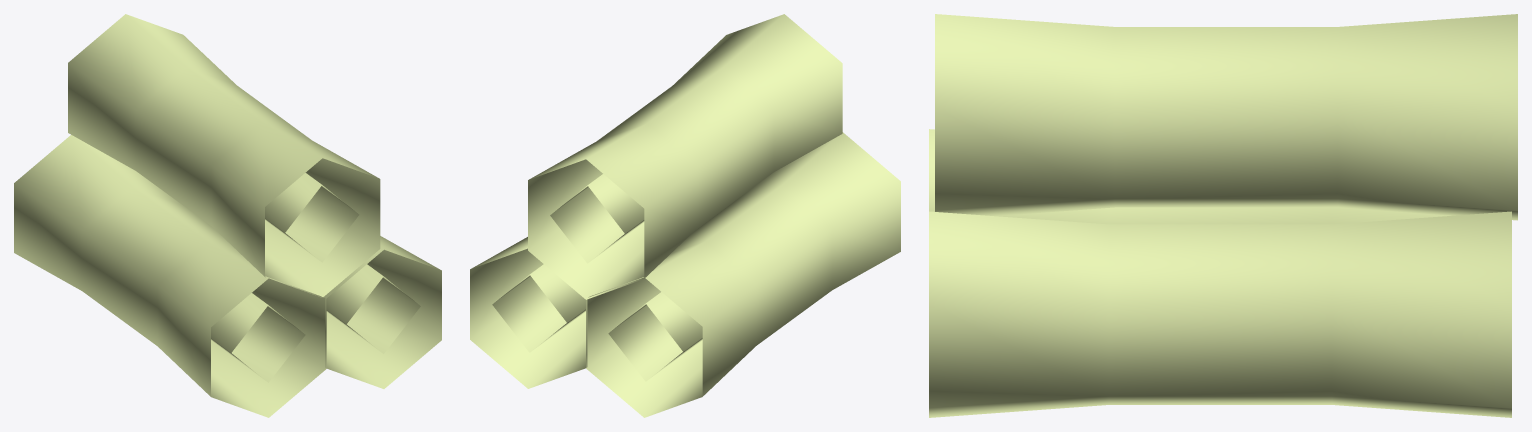
3 views of the same model, side by side, from view 1: azimuth 30°, elevation 25°; view 2: azimuth 150°, elevation 25°; view 3: azimuth 270°, elevation 25° (orthographic). The views are drawn at different scales.
Visible parts, largest first — view 1: Straw01; view 2: Straw01; view 3: Straw01.
Boxes of the visible parts, bbox=[...] form: Straw01: bbox=[14, 14, 441, 417]; Straw01: bbox=[470, 14, 900, 417]; Straw01: bbox=[929, 14, 1517, 417].
Size of the model in its own units: 138 by 140 by 206.
